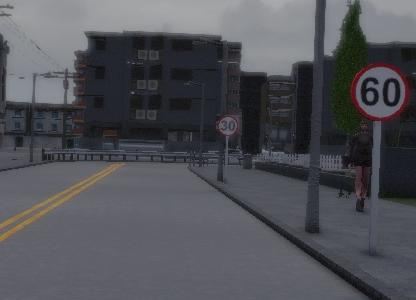Speed_60: (349, 63, 410, 124)
